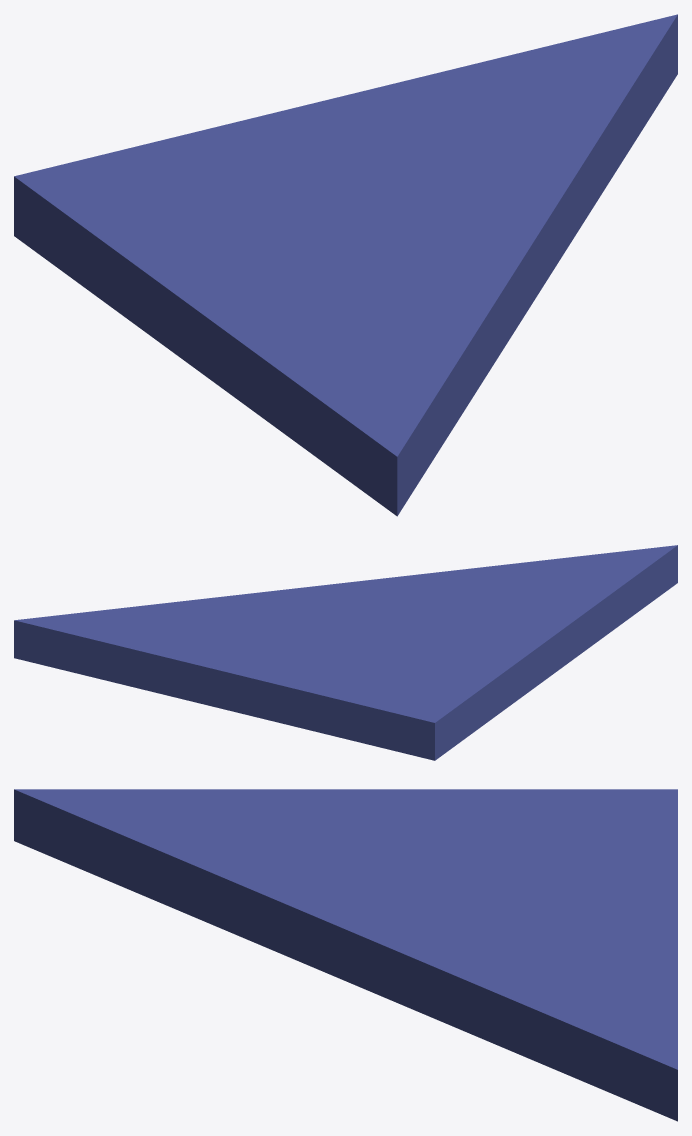
The model's file is CoL_TilingFloor7.fbx.
The picture shows the model from 3 angles, top to bottom: view 1: azimuth 30°, elevation 25°; view 2: azimuth 150°, elevation 25°; view 3: azimuth 270°, elevation 25°; orthographic projection. The views are drawn at different scales.
Parts seen in each view (by area): view 1: CoL_TilingFloor7; view 2: CoL_TilingFloor7; view 3: CoL_TilingFloor7.
Boxes of the visible parts, <box> form: CoL_TilingFloor7: <box>14,14,677,516</box>; CoL_TilingFloor7: <box>14,545,677,760</box>; CoL_TilingFloor7: <box>14,789,677,1121</box>.
Bounding box in the file's own units: 790 × 67.89 × 790.
